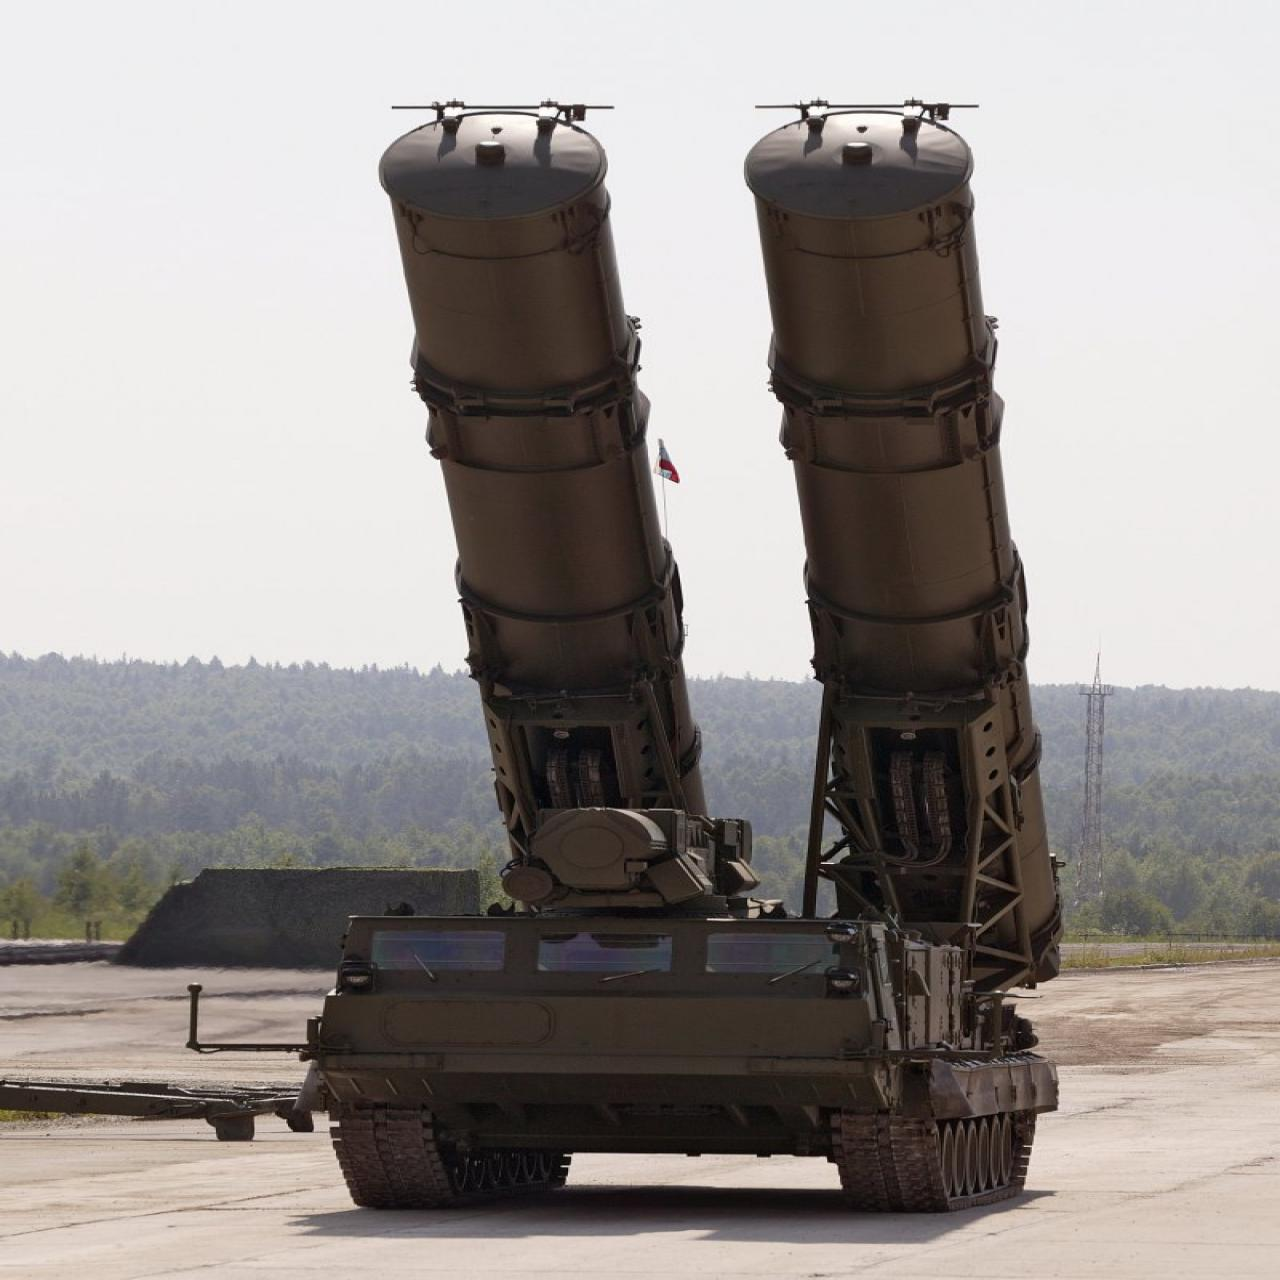MIL_Veh: (305, 94, 1058, 1238)
